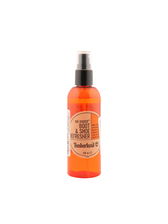other: (59, 50, 110, 184)
